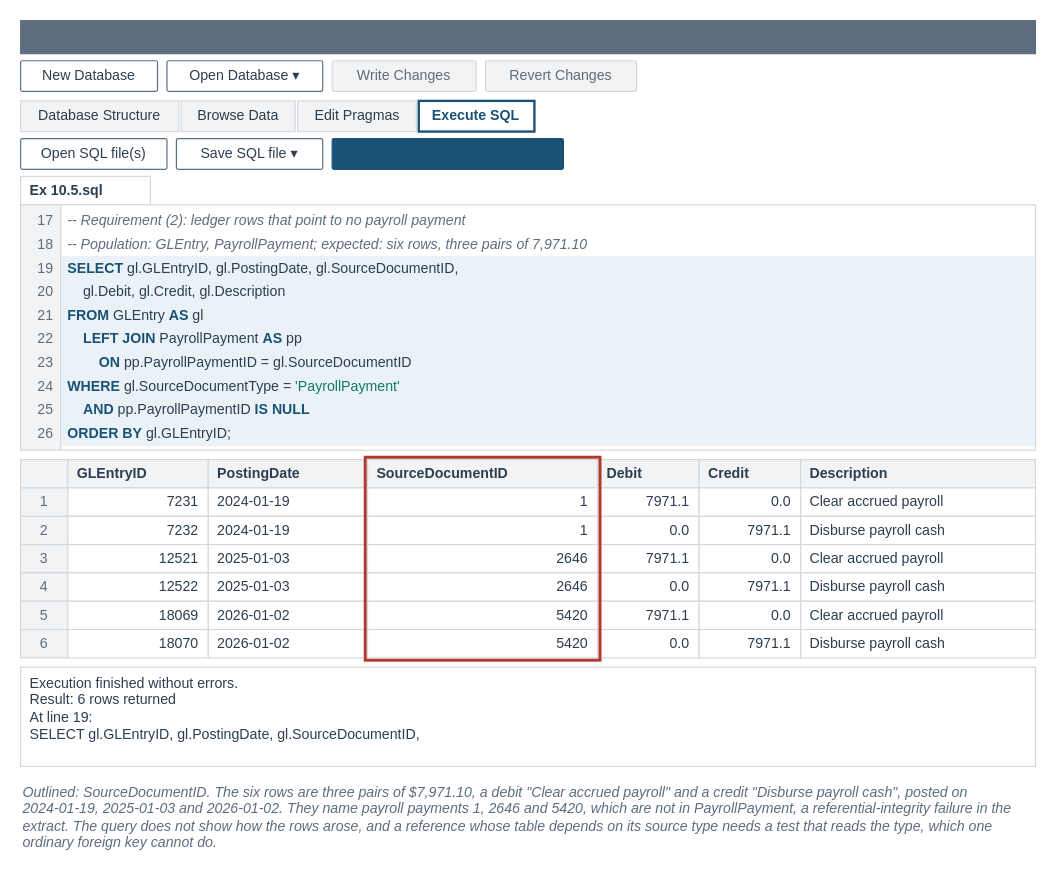
This 1056x884 diagram has some shape labels left out. Here are the shapes that lost their labels. From the top down, the centre of each, then its label:
At pixel 527 36: "DB Browser for SQLite - C:\Users\you\Documents\CharlesRiver_Work.sqlite".
At pixel 447 153: "▶ Execute all/selected SQL".
